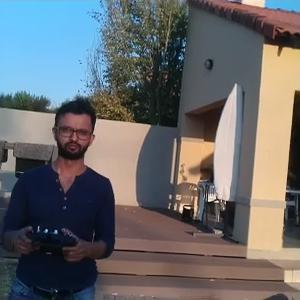follow: (0, 96, 119, 298)
